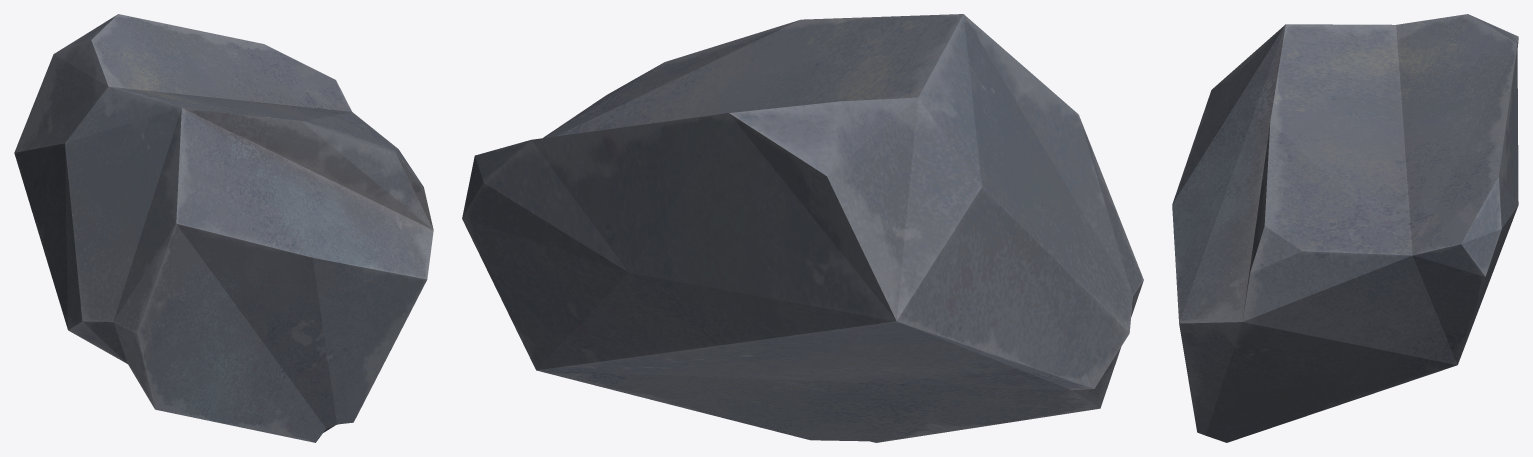
File: Rocas_zona2_1.fbx
3 views of the same model, side by side, from view 1: azimuth 30°, elevation 25°; view 2: azimuth 150°, elevation 25°; view 3: azimuth 270°, elevation 25° (orthographic). The views are drawn at different scales.
Parts seen in each view (by area): view 1: stylized_rock_67; view 2: stylized_rock_67; view 3: stylized_rock_67.
Boxes of the visible parts, x1=… form: stylized_rock_67: x1=14, y1=14, x2=433, y2=442; stylized_rock_67: x1=462, y1=14, x2=1143, y2=442; stylized_rock_67: x1=1172, y1=14, x2=1518, y2=442.
Size of the model in its own units: 202 by 192 by 167.
